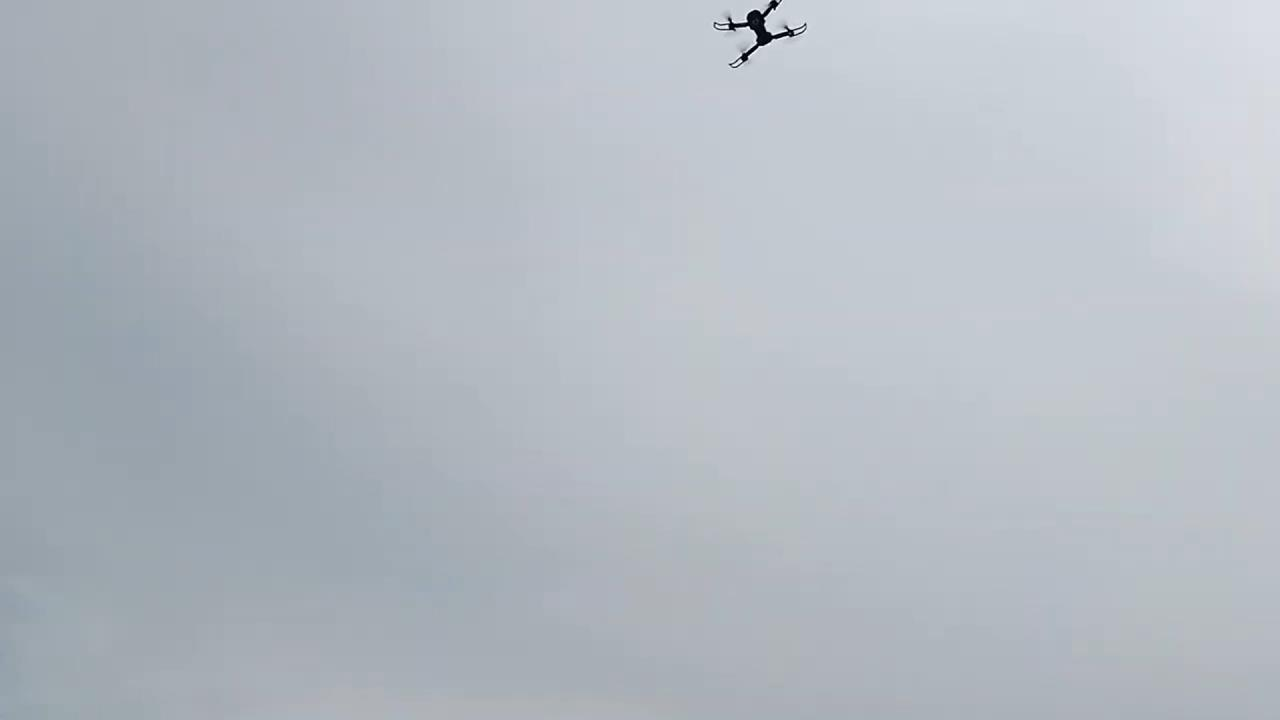Drone: (701, 0, 821, 79)
